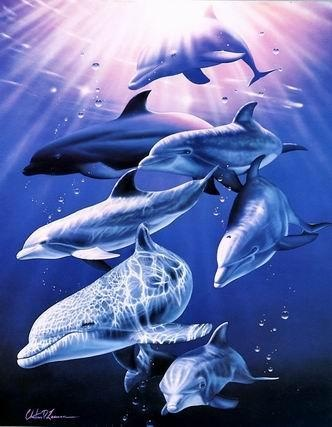fish: (15, 225, 214, 371), (16, 160, 220, 265), (20, 89, 235, 182), (210, 151, 327, 293), (140, 99, 313, 176), (128, 2, 277, 90), (161, 320, 280, 418)
